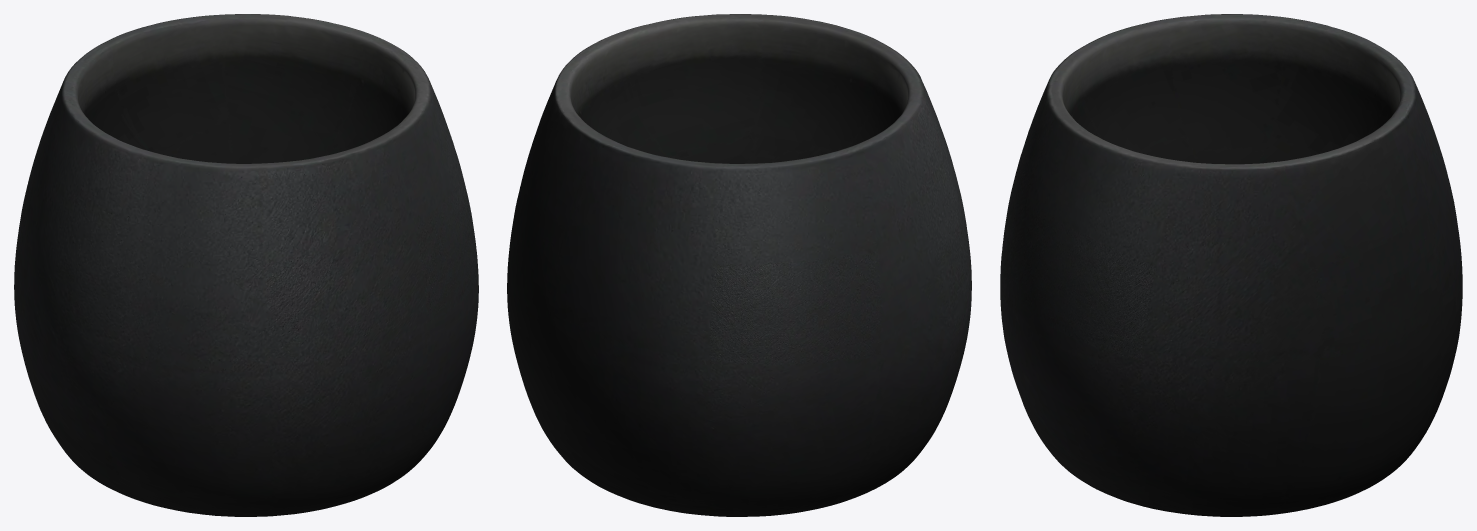
The model's file is esferica.glb.
The picture shows the model from 3 angles, left to right: view 1: azimuth 30°, elevation 25°; view 2: azimuth 150°, elevation 25°; view 3: azimuth 270°, elevation 25°; orthographic projection.
Parts seen in each view (by area): view 1: tripo_node_c431d3b8-686c-442f-ace4-89bbe3bfa649; view 2: tripo_node_c431d3b8-686c-442f-ace4-89bbe3bfa649; view 3: tripo_node_c431d3b8-686c-442f-ace4-89bbe3bfa649.
Part boxes in pixels (<box>): tripo_node_c431d3b8-686c-442f-ace4-89bbe3bfa649: <box>14,14,478,516</box>; tripo_node_c431d3b8-686c-442f-ace4-89bbe3bfa649: <box>507,14,971,516</box>; tripo_node_c431d3b8-686c-442f-ace4-89bbe3bfa649: <box>1000,14,1462,516</box>.
Bounding box in the file's own units: 0.9795 × 0.8315 × 0.9791.
1 material, 1 textured.
